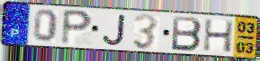0: (32, 8, 60, 45)
3: (132, 12, 162, 51)
B: (170, 15, 204, 53)
H: (202, 18, 235, 54)
J: (101, 13, 128, 47)
P: (60, 8, 95, 47)
